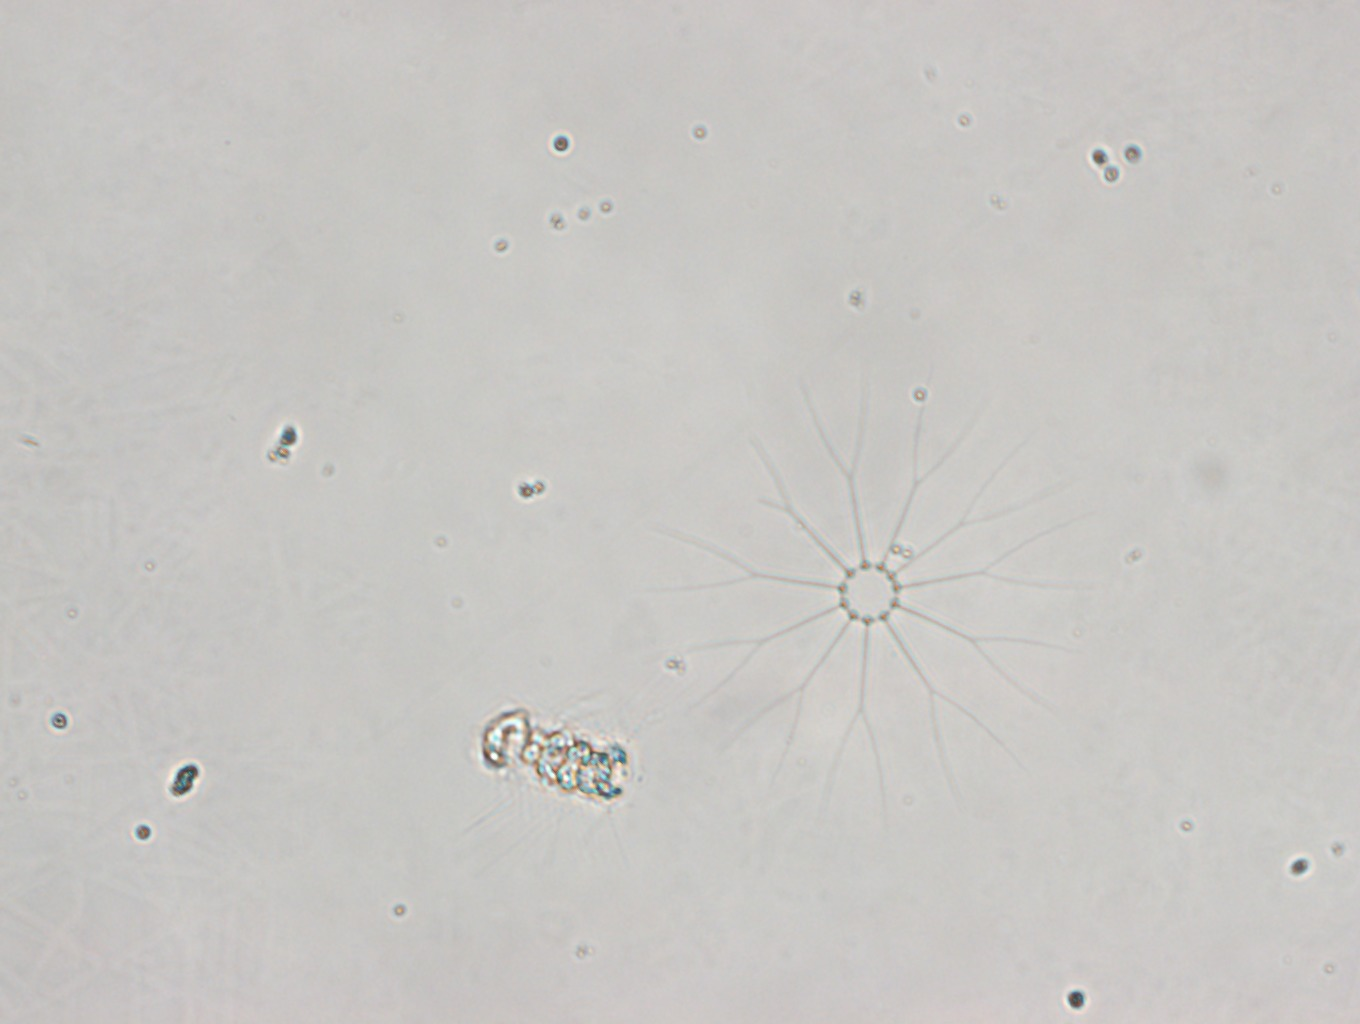bacteriastrum: (638, 359, 1123, 834)
